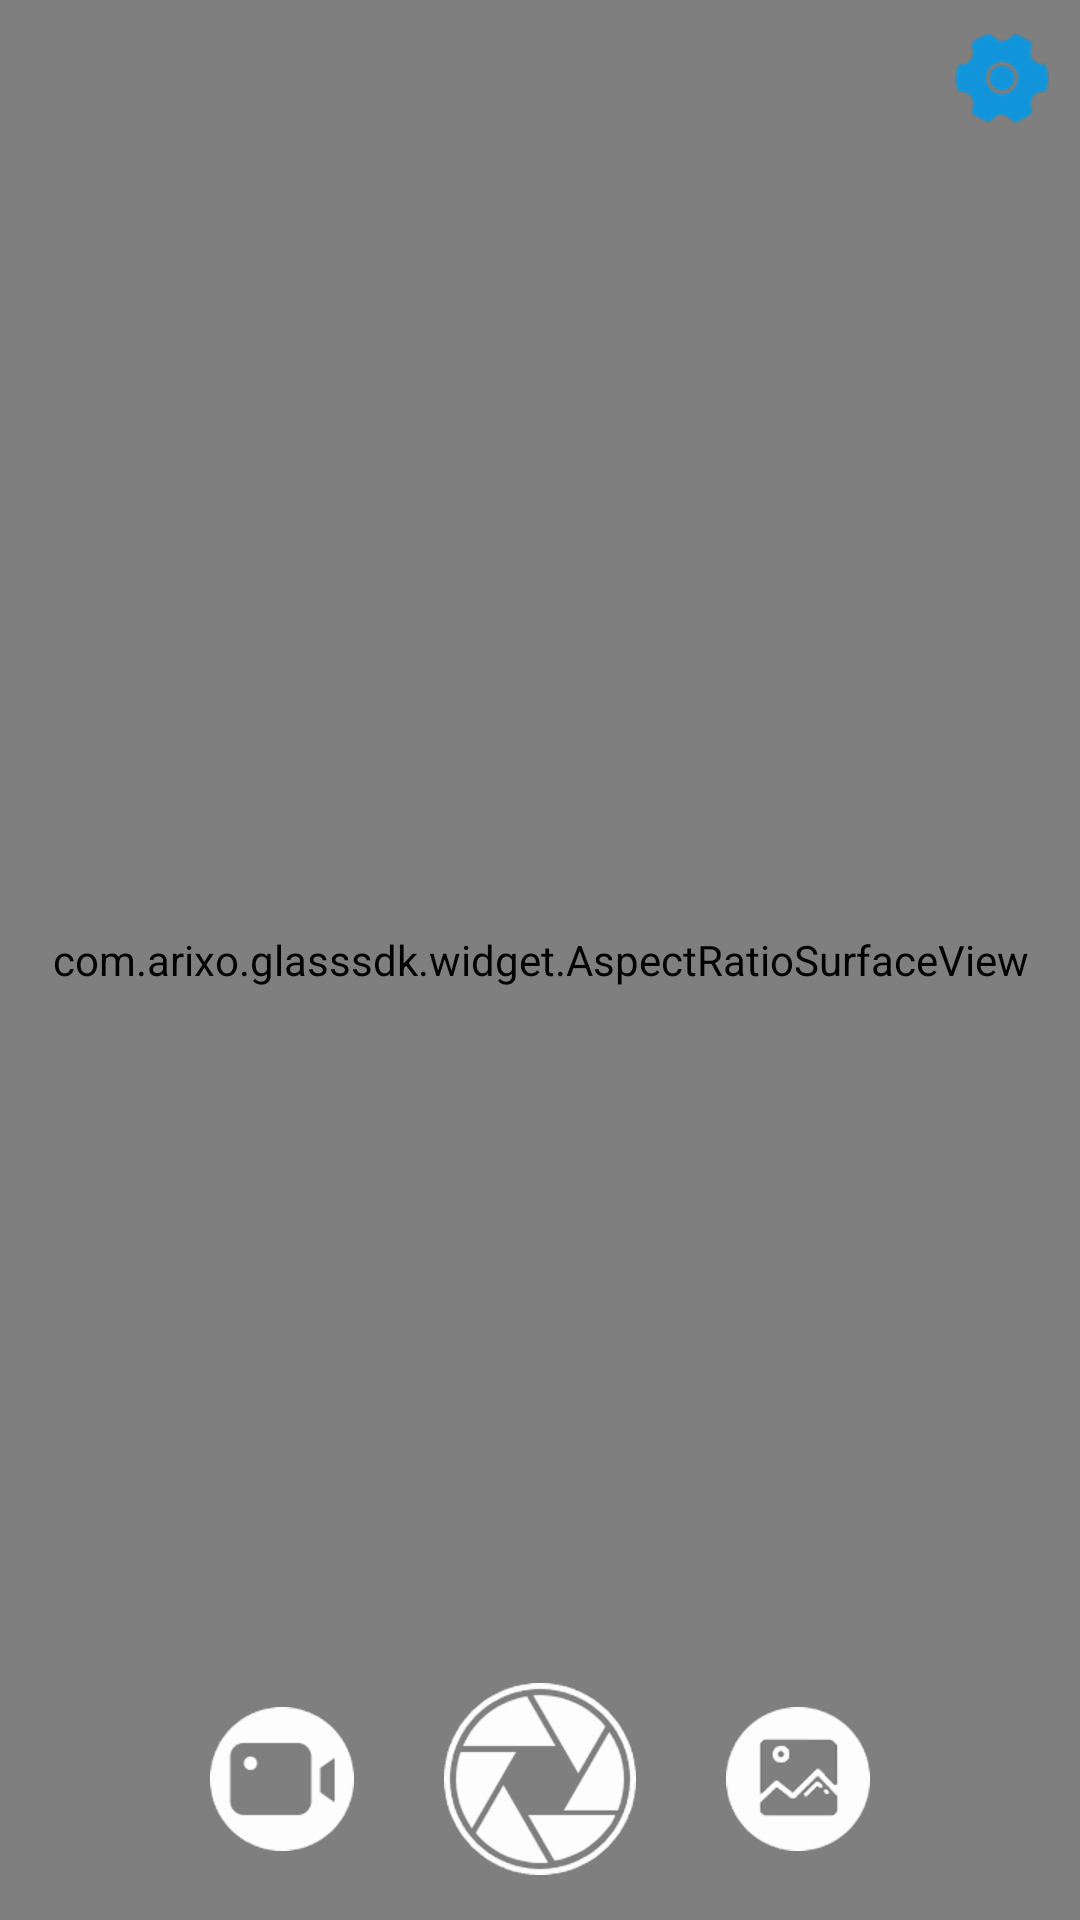

Where to tap for icons on this 1080px×1920px app screen, as (x,y):
Gallery Button Image: (798,1779)
Recording Button Image: (282,1779)
Setting Button Image: (1002,78)
Shutter Button Image: (540,1779)
